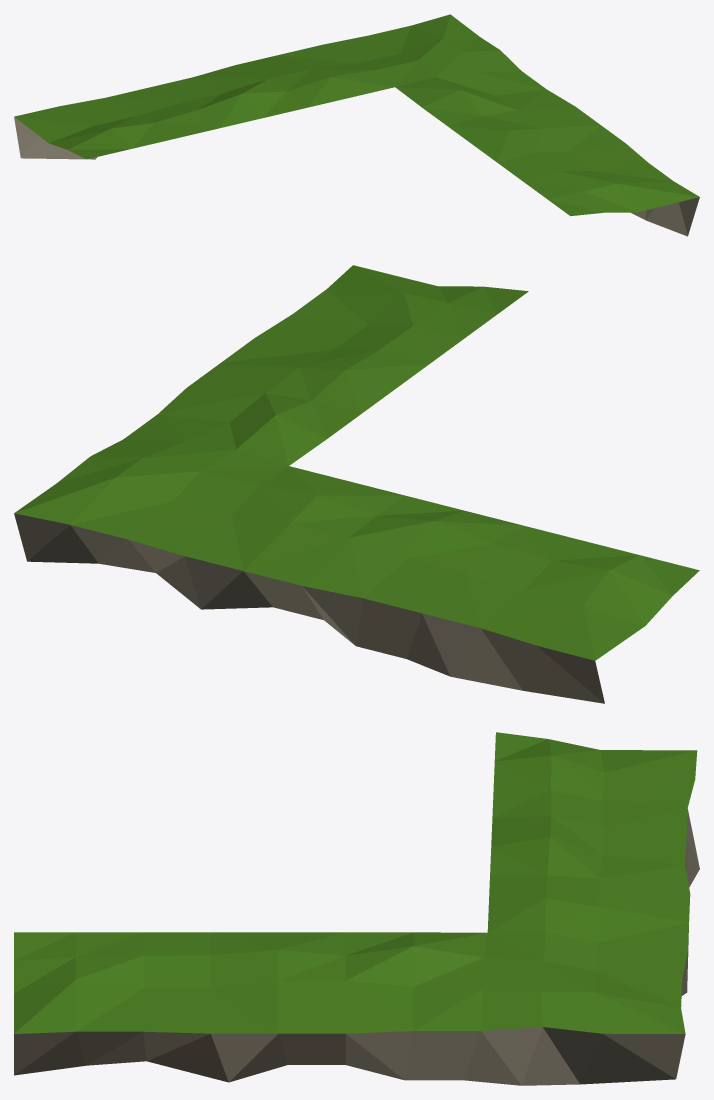
File: land_corner.fbx
The picture shows the model from 3 angles, top to bottom: view 1: azimuth 30°, elevation 25°; view 2: azimuth 150°, elevation 25°; view 3: azimuth 270°, elevation 25°; orthographic projection. The views are drawn at different scales.
Parts seen in each view (by area): view 1: landCorner; view 2: landCorner; view 3: landCorner.
Boxes of the visible parts, bbox=[...] form: landCorner: bbox=[14, 14, 699, 236]; landCorner: bbox=[14, 265, 699, 703]; landCorner: bbox=[14, 732, 699, 1085].
Bounding box in the file's own units: 0.792 × 0.1202 × 0.7983.
